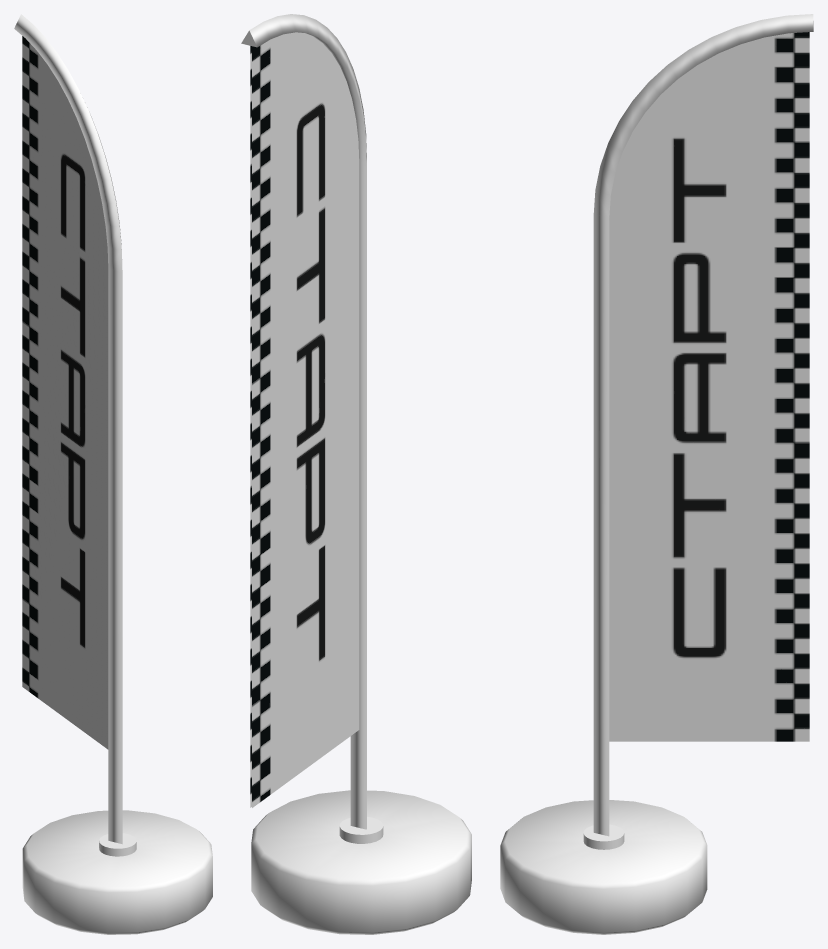
Rendered from winder_start.dae.
The picture shows the model from 3 angles, left to right: view 1: azimuth 30°, elevation 25°; view 2: azimuth 150°, elevation 25°; view 3: azimuth 270°, elevation 25°; orthographic projection. The views are drawn at different scales.
Visible parts, largest first — view 1: Circle; view 2: Circle; view 3: Circle.
Boxes of the visible parts, x1,y1,x2,y2 form: Circle: (14, 14, 212, 934); Circle: (241, 14, 471, 934); Circle: (500, 14, 813, 934).
Size of the model in its own units: 0.9825 by 1.49 by 4.6.
Materials: 1 (1 with a texture image).
